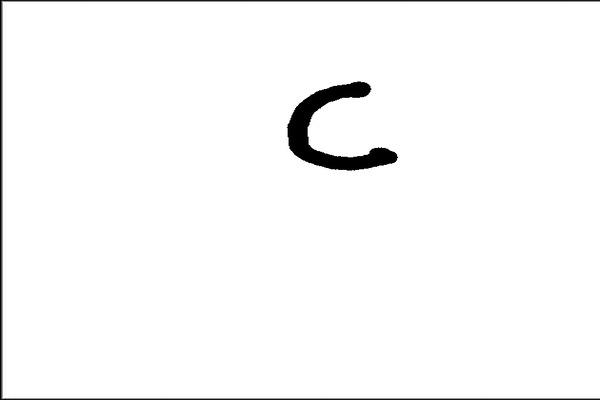C: (279, 78, 403, 172)
